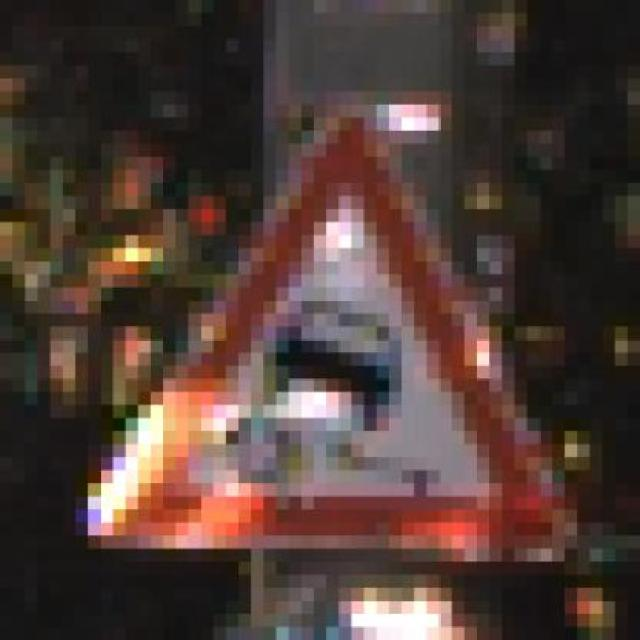Slippery Road Ahead: (62, 104, 590, 562)
